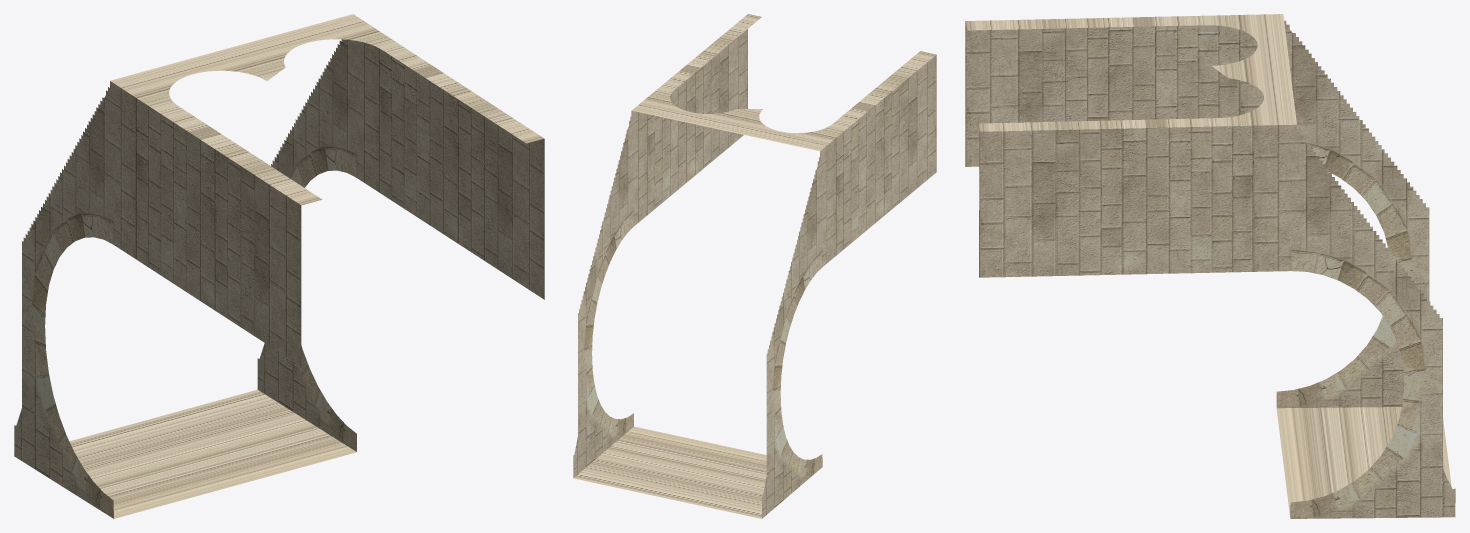
3 renders of one model, left to right at view 1: azimuth 30°, elevation 25°; view 2: azimuth 150°, elevation 25°; view 3: azimuth 270°, elevation 25°, orthographic. The views are drawn at different scales.
Visible parts, largest first — view 1: segment3_; view 2: segment3_; view 3: segment3_.
Boxes of the visible parts, left/top/right/bottom form: segment3_: left=14, top=14, right=544, bottom=518; segment3_: left=573, top=14, right=936, bottom=518; segment3_: left=965, top=14, right=1455, bottom=518.
Size of the model in its own units: 316 by 482 by 540.
